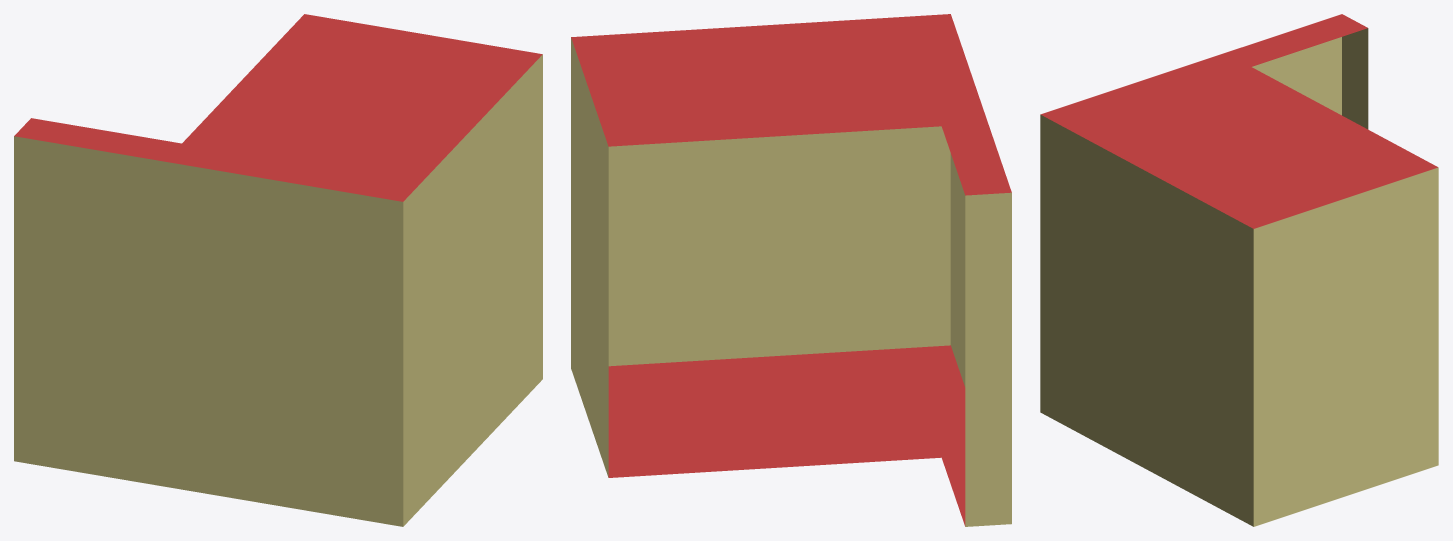
The picture shows the model from 3 angles, left to right: view 1: azimuth 30°, elevation 25°; view 2: azimuth 150°, elevation 25°; view 3: azimuth 270°, elevation 25°; orthographic projection. The views are drawn at different scales.
Size of the model in its own units: 9.03 by 7.07 by 5.83.
